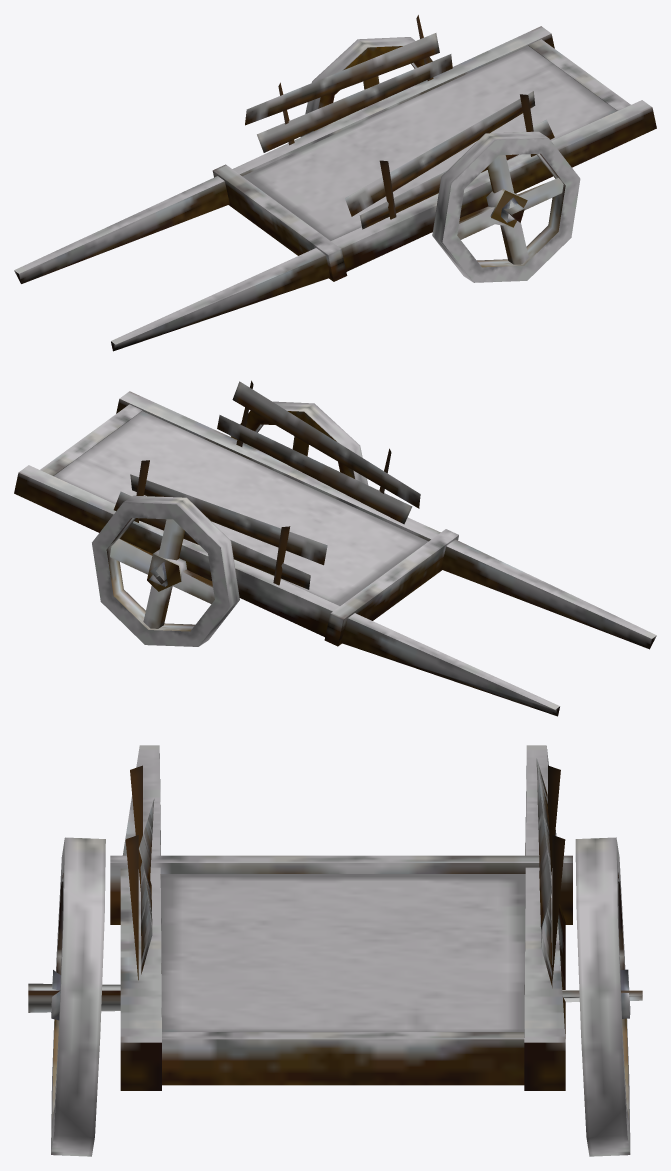
The model's file is nsm-general_obj_21_lod_01.glb.
3 views of the same model, one above another, from view 1: azimuth 30°, elevation 25°; view 2: azimuth 150°, elevation 25°; view 3: azimuth 270°, elevation 25° (orthographic). The views are drawn at different scales.
Visible parts, largest first — view 1: Sphere01; view 2: Sphere01; view 3: Sphere01.
Boxes of the visible parts, <box> form: Sphere01: <box>14,15,656,351</box>; Sphere01: <box>14,380,656,716</box>; Sphere01: <box>28,745,642,1156</box>.
Bounding box in the file's own units: 4.77 × 1.43 × 2.36.
1 material, 1 textured.
